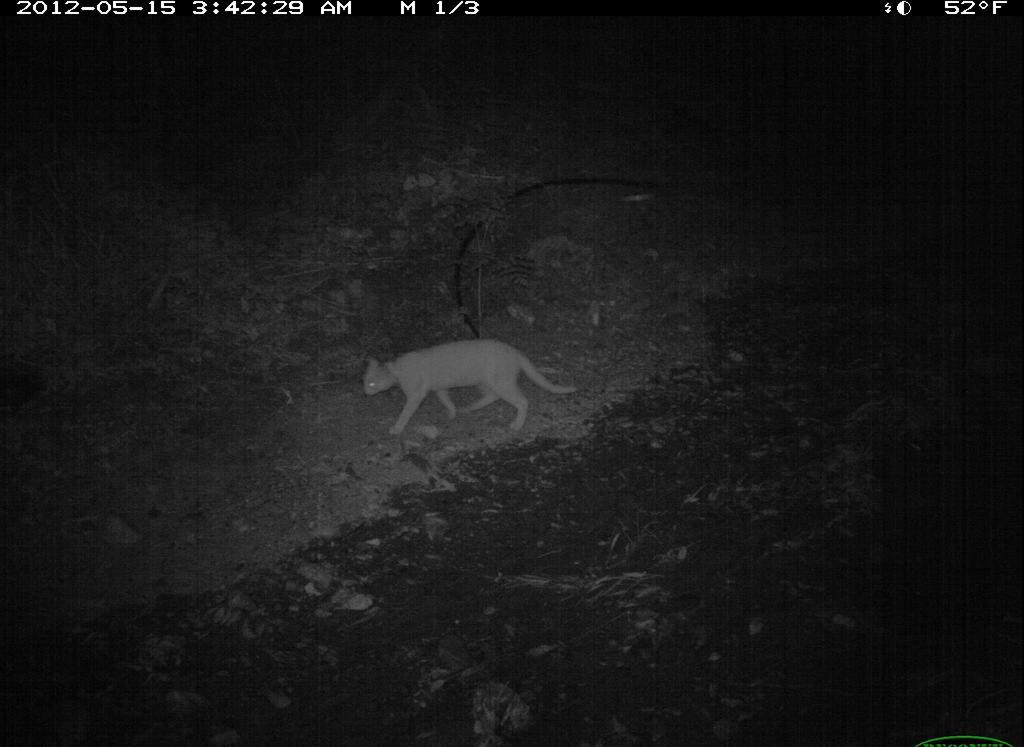cat: (341, 326, 589, 446)
